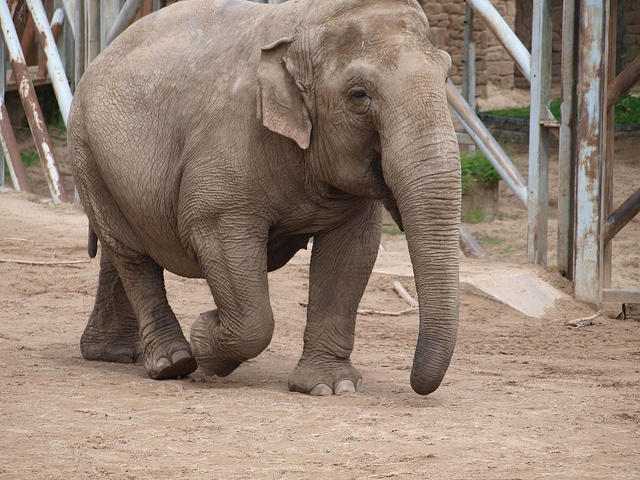elephant: (68, 1, 463, 397)
